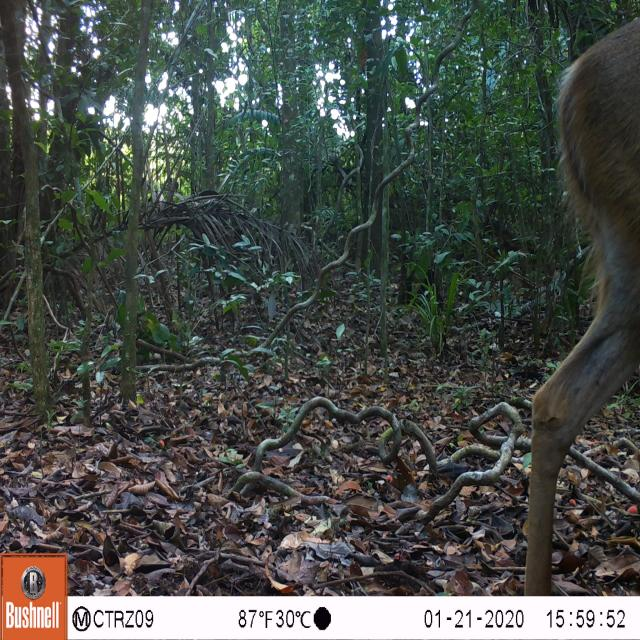White-tailed Deer: (524, 0, 640, 591)
